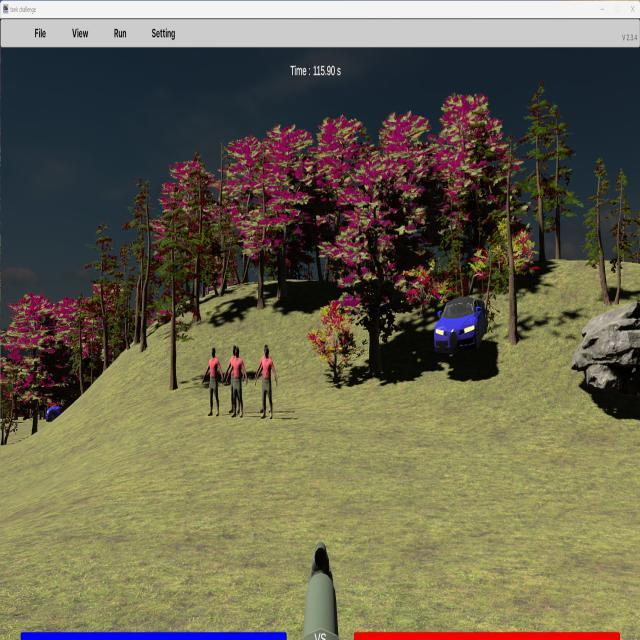Human: (255, 345, 278, 419), (226, 345, 248, 418), (202, 347, 224, 416)
car: (433, 296, 487, 352)
